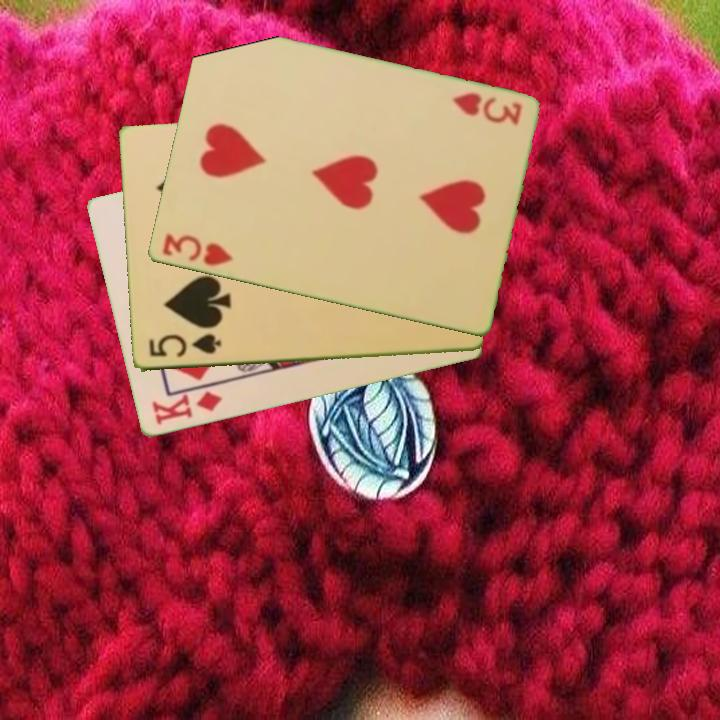3h: (158, 230, 235, 269), (449, 89, 524, 129)
5s: (145, 330, 224, 361)
Kd: (148, 388, 225, 429)
